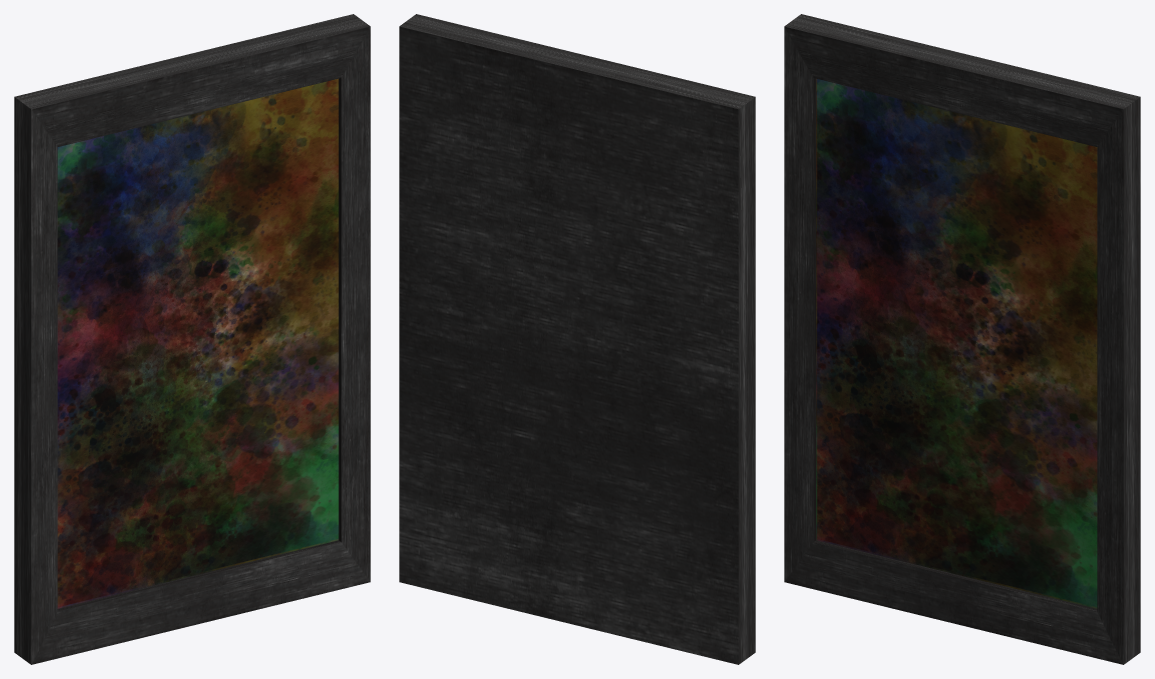
File: painting_portrait_1.fbx
3 views of the same model, side by side, from view 1: azimuth 30°, elevation 25°; view 2: azimuth 150°, elevation 25°; view 3: azimuth 330°, elevation 25° (orthographic).
Parts seen in each view (by area): view 1: painting_Var1; view 2: painting_Var1; view 3: painting_Var1.
Boxes of the visible parts, left/top/right/bottom form: painting_Var1: left=14, top=14, right=370, bottom=664; painting_Var1: left=399, top=14, right=755, bottom=664; painting_Var1: left=784, top=14, right=1140, bottom=664.
Bounding box in the file's own units: 59.07 × 92.39 × 5.15.
1 material, 1 textured.
